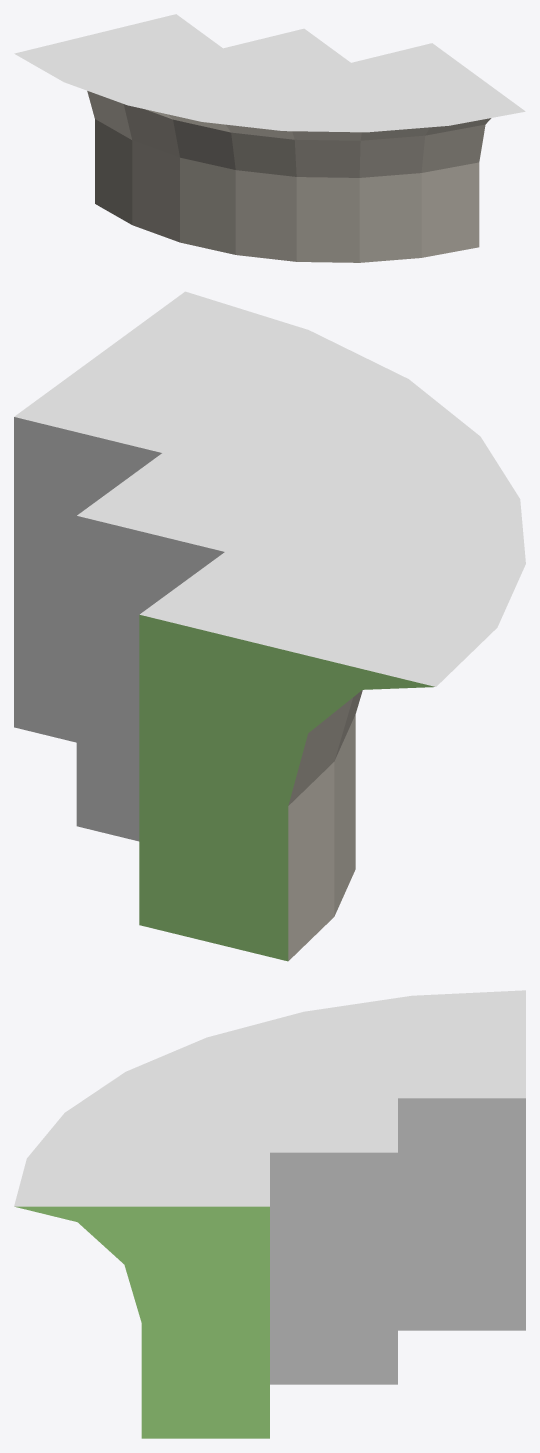
The model's file is Wall_Curve_Outer_4x4_Top.glb.
The picture shows the model from 3 angles, top to bottom: view 1: azimuth 30°, elevation 25°; view 2: azimuth 150°, elevation 25°; view 3: azimuth 270°, elevation 25°; orthographic projection. The views are drawn at different scales.
Parts seen in each view (by area): view 1: Wall_Curve_Outer_4x4_Top; view 2: Wall_Curve_Outer_4x4_Top; view 3: Wall_Curve_Outer_4x4_Top.
Boxes of the visible parts, <box> form: Wall_Curve_Outer_4x4_Top: <box>14,14,525,262</box>; Wall_Curve_Outer_4x4_Top: <box>14,291,525,961</box>; Wall_Curve_Outer_4x4_Top: <box>14,990,525,1438</box>.
Bounding box in the file's own units: 400 × 200 × 400.
